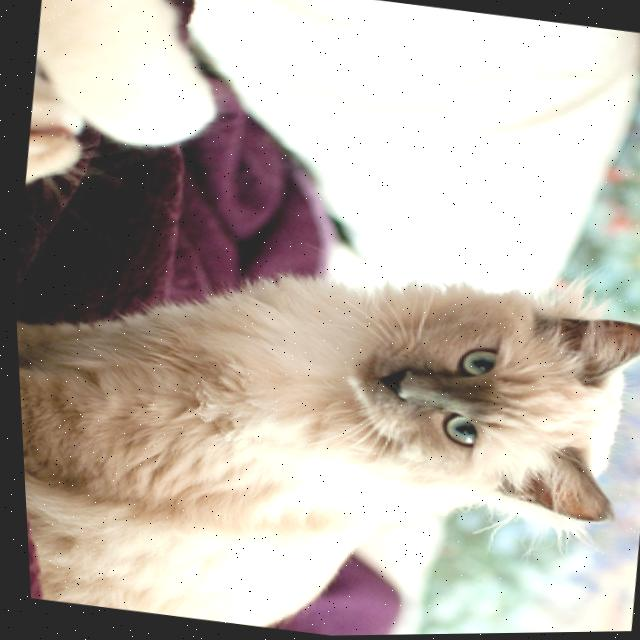Ragdoll: (9, 213, 640, 640)
